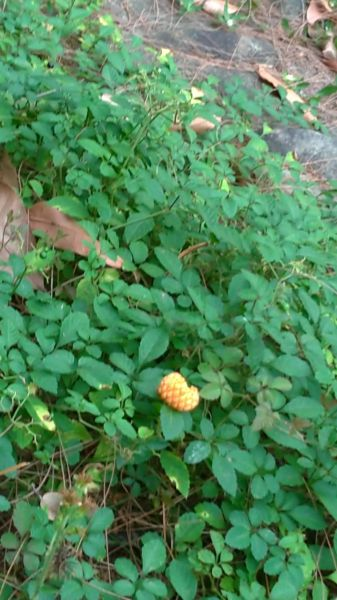eggs: (154, 367, 209, 417)
